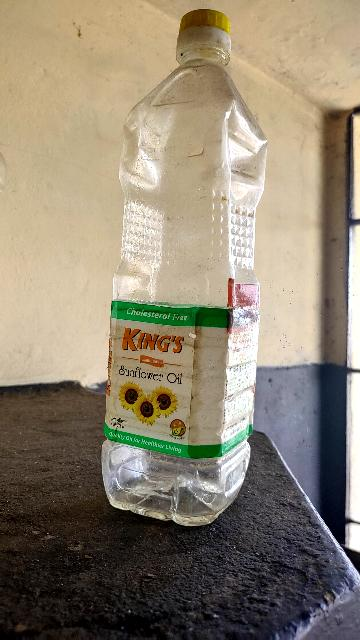bottle: (100, 13, 268, 520)
